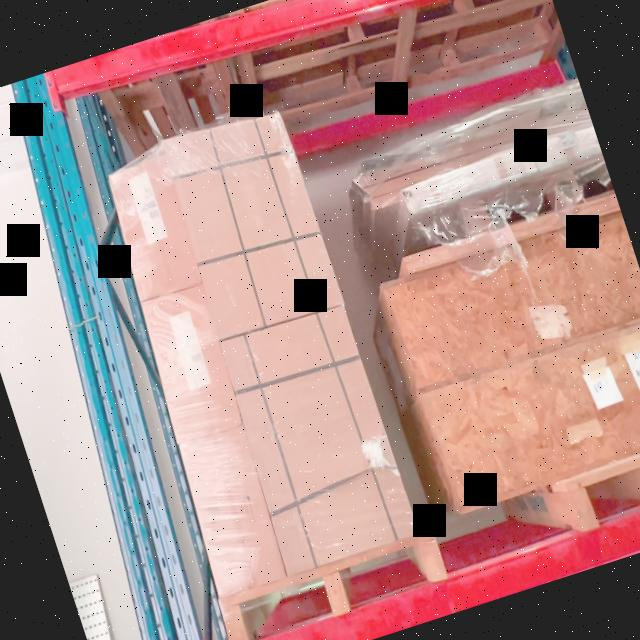box: (220, 304, 422, 576), (164, 113, 342, 340), (180, 430, 288, 593), (140, 286, 242, 442), (103, 154, 201, 300)
